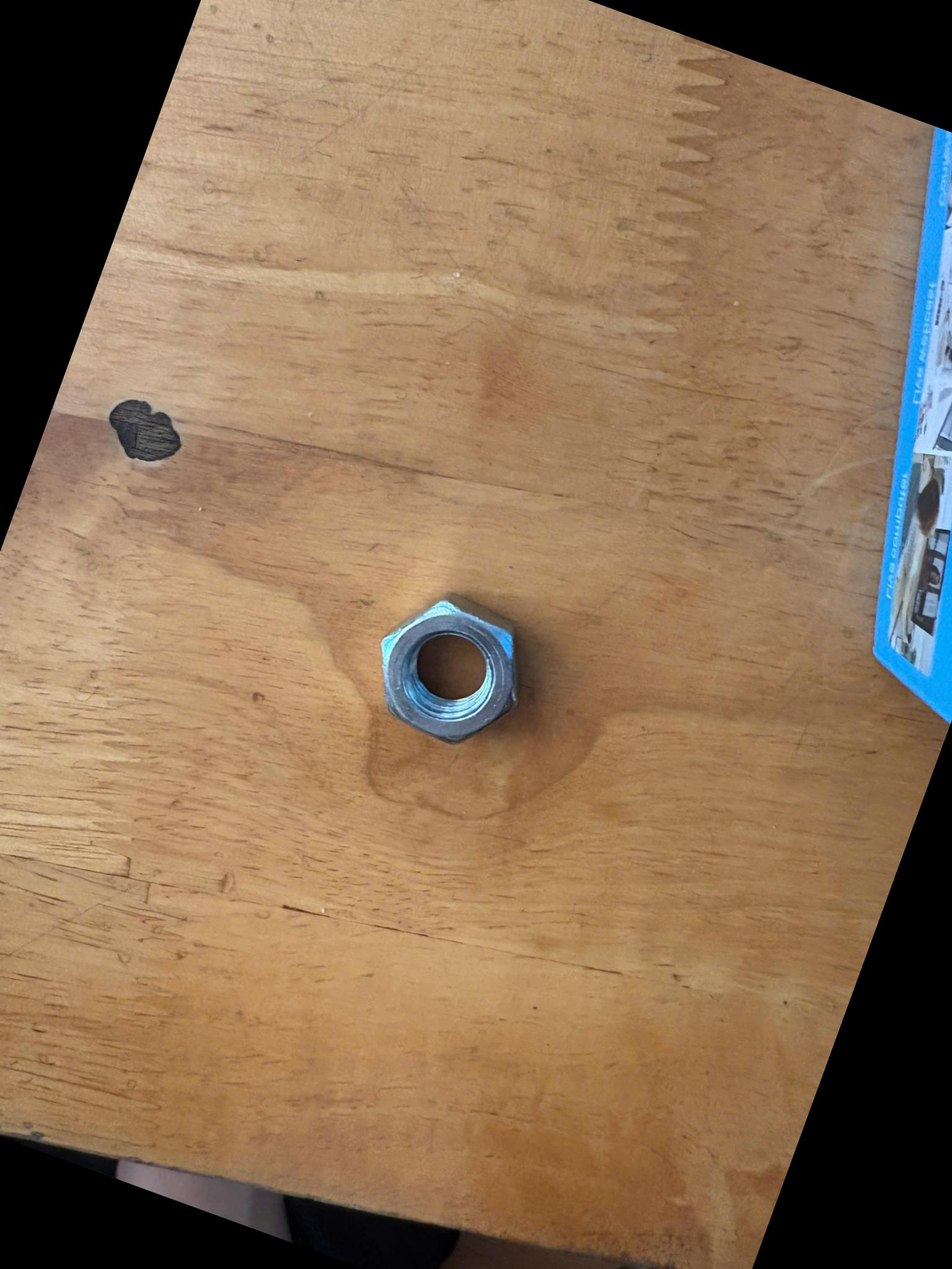nut: (338, 549, 571, 780)
